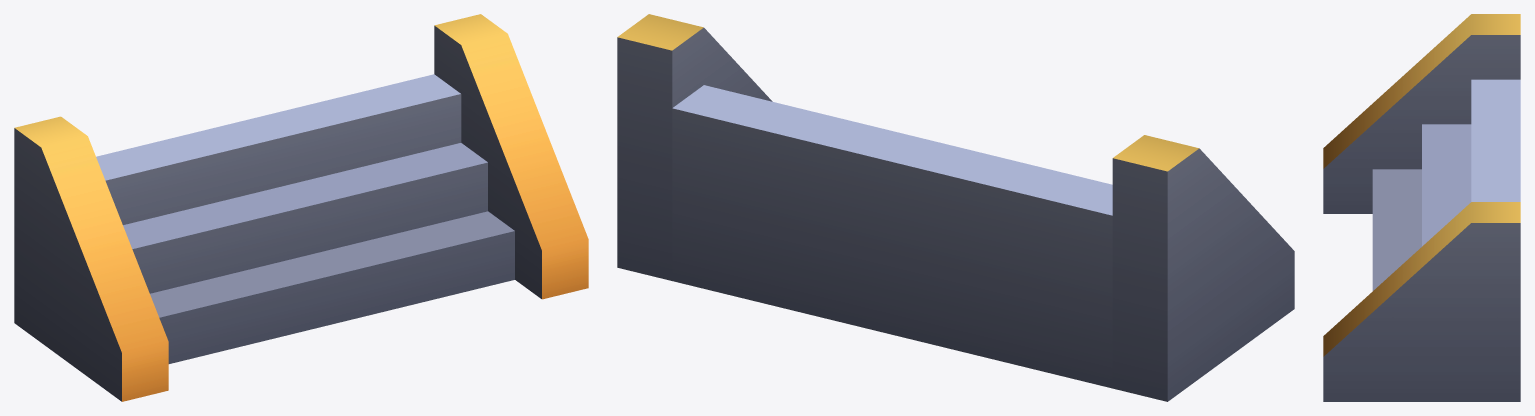
File: stairs-small-edges.glb
3 views of the same model, side by side, from view 1: azimuth 30°, elevation 25°; view 2: azimuth 150°, elevation 25°; view 3: azimuth 270°, elevation 25° (orthographic). The views are drawn at different scales.
Visible parts, largest first — view 1: stairs-small-edges; view 2: stairs-small-edges; view 3: stairs-small-edges.
Boxes of the visible parts, <box> form: stairs-small-edges: <box>14,14,588,401</box>; stairs-small-edges: <box>617,14,1294,401</box>; stairs-small-edges: <box>1323,14,1520,401</box>.
Size of the model in its own units: 1 by 0.3999 by 0.3999.
1 material, 1 textured.
